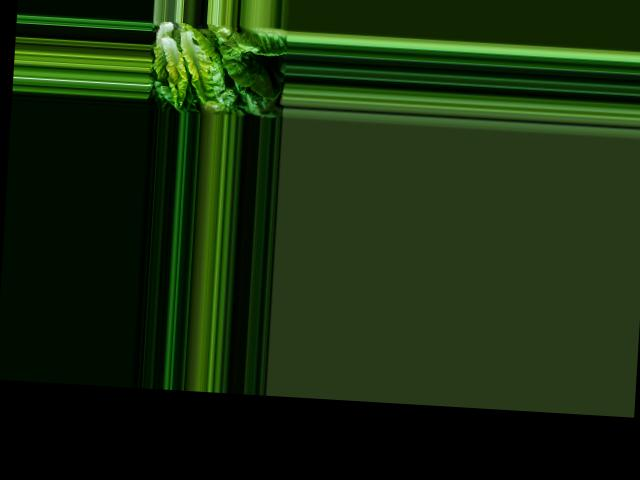lettuce: (150, 19, 242, 109)
